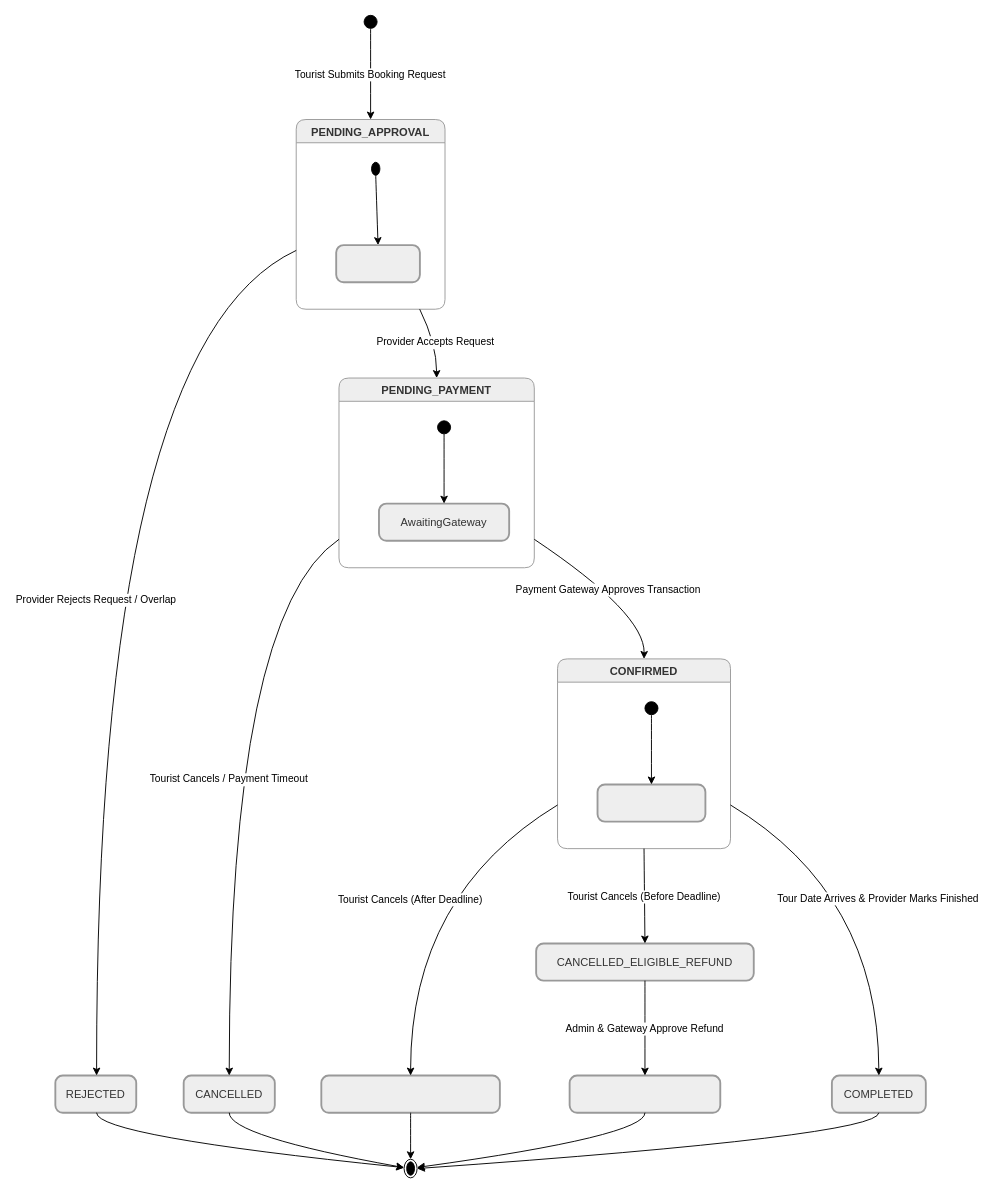
Image size: 995x1193. Some labels were removed from this diagram. The shapes that lost their labels are listed below. From the top down, each one's box as (x1, y1, x2, y2) in pixels, then its label:
(335, 244, 420, 283): Evaluating
(596, 783, 706, 822): ActiveBooking
(320, 1074, 500, 1113): CANCELLED_NO_REFUND
(568, 1074, 721, 1113): REFUND_PROCESSED
